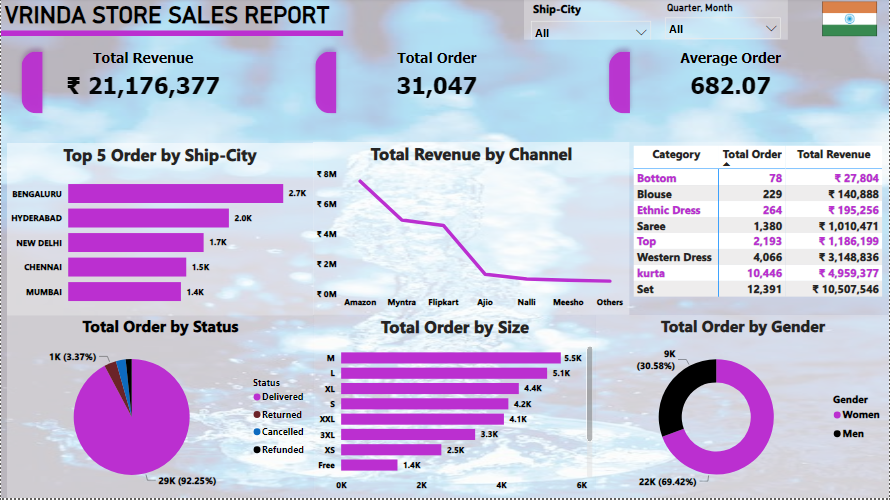

The dashboard page shown, as its layout file describes it:
{"tool":"powerbi","page":{"name":"Page 1","canvas":[1280,720],"ordinal":0},"visuals":[{"type":"cardVisual","fields":{"Data":["Sum(Vrinda Store.Total Revenue)","Vrinda Store.Total Order","Vrinda Store.Average Order"]},"box":[8.6,56.2,1271.5,131],"z":0},{"type":"textbox","box":[0,0,511.2,56.2],"z":1000},{"type":"shape","box":[0,28.3,493.2,43.9],"z":2000},{"type":"image","box":[1163.5,0,116.6,60.5],"z":3000},{"type":"barChart","title":"Top 5 Order by Ship-City","fields":{"Category":["Vrinda Store.ship-city"],"Y":["Vrinda Store.Total Order"]},"box":[8.6,208.8,440.6,247.7],"z":4000},{"type":"lineChart","fields":{"Y":["Sum(Vrinda Store.Total Revenue)"],"Category":["Vrinda Store.Channel "]},"box":[449.3,207.4,456.5,249.1],"z":5000},{"type":"slicer","fields":{"Values":["Vrinda Store.Date.Variation.Date Hierarchy.Quarter","Vrinda Store.Date.Variation.Date Hierarchy.Month"]},"box":[946.1,0,187.2,60.5],"z":6000},{"type":"pivotTable","fields":{"Rows":["Vrinda Store.Category"],"Values":["Vrinda Store.Total Order","Sum(Vrinda Store.Total Revenue)"]},"box":[905.8,207.4,374.4,249.1],"z":7000},{"type":"barChart","fields":{"Category":["Vrinda Store.Size"],"Y":["Vrinda Store.Total Order"]},"box":[450.7,456.5,406.1,263.5],"z":8000},{"type":"pieChart","fields":{"Category":["Vrinda Store.Status"],"Y":["Vrinda Store.Total Order"]},"box":[8.6,456.5,442.1,263.5],"z":9000},{"type":"donutChart","fields":{"Category":["Vrinda Store.Gender"],"Y":["Vrinda Store.Total Order"]},"box":[856.8,456.5,423.4,263.5],"z":10000},{"type":"slicer","fields":{"Values":["Vrinda Store.ship-city"]},"box":[753.1,0,193,60.5],"z":10001}]}

Visuals, with their boxes in screenshot pixels (x1, y1, x2, y2), scaled from the page's 1280x720 canvas onto the 890x500 screenshot:
cardVisual - Sum(Vrinda Store.Total Revenue) x Vrinda Store.Total Order: detection(6, 39, 889, 130)
textbox: detection(0, 0, 355, 39)
shape: detection(0, 20, 343, 50)
image: detection(809, 0, 889, 42)
"Top 5 Order by Ship-City" barChart: detection(6, 145, 312, 317)
lineChart - Sum(Vrinda Store.Total Revenue) x Vrinda Store.Channel : detection(312, 144, 630, 317)
slicer - Vrinda Store.Date.Variation.Date Hierarchy.Quarter x Vrinda Store.Date.Variation.Date Hierarchy.Month: detection(658, 0, 788, 42)
pivotTable - Vrinda Store.Category x Vrinda Store.Total Order: detection(630, 144, 889, 317)
barChart - Vrinda Store.Size x Vrinda Store.Total Order: detection(313, 317, 596, 499)
pieChart - Vrinda Store.Status x Vrinda Store.Total Order: detection(6, 317, 313, 499)
donutChart - Vrinda Store.Gender x Vrinda Store.Total Order: detection(596, 317, 889, 499)
slicer - Vrinda Store.ship-city: detection(524, 0, 658, 42)
